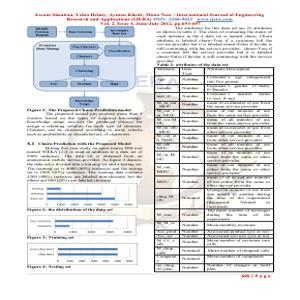diagram: (24, 184, 141, 272), (26, 25, 141, 107)
table: (151, 65, 276, 274)
text: (23, 109, 147, 183), (156, 26, 274, 62), (33, 9, 275, 24)
